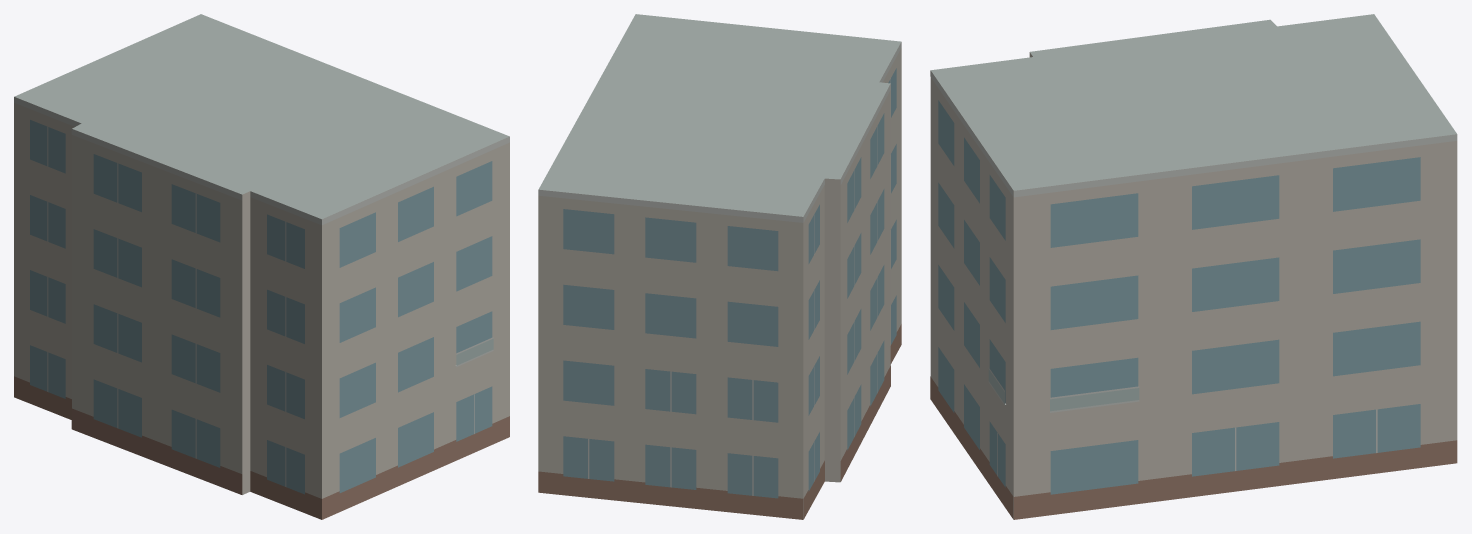
Rendered from survey-upis-32748970.glb.
The picture shows the model from 3 angles, left to right: view 1: azimuth 30°, elevation 25°; view 2: azimuth 150°, elevation 25°; view 3: azimuth 270°, elevation 25°; orthographic projection. The views are drawn at different scales.
Parts seen in each view (by area): view 1: survey-upis-32748970.tmp; view 2: survey-upis-32748970.tmp; view 3: survey-upis-32748970.tmp.
Part boxes in pixels (box(x1,y1,x2,y2)): survey-upis-32748970.tmp: box(14, 14, 509, 519); survey-upis-32748970.tmp: box(538, 14, 901, 519); survey-upis-32748970.tmp: box(930, 14, 1457, 519).
Bounding box in the file's own units: 14.07 × 12.2 × 17.71.
